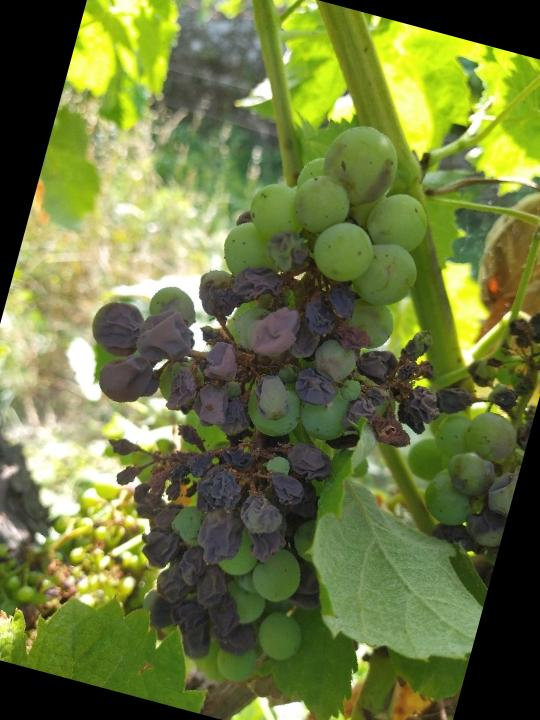grape: (5, 67, 507, 720)
